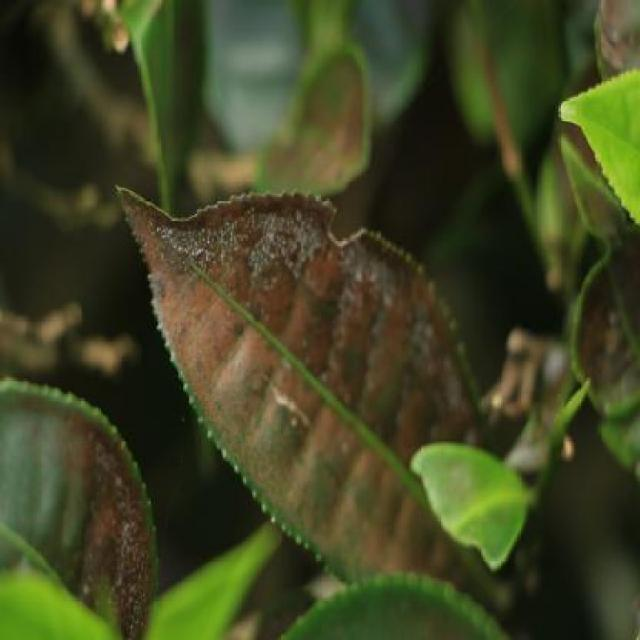Red Spider infested tea leaf: (109, 183, 571, 612), (0, 374, 149, 617)
